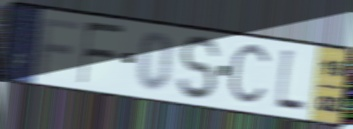0: (136, 29, 176, 95)
C: (226, 40, 274, 109)
F: (78, 20, 127, 86), (36, 16, 83, 79)
L: (274, 45, 308, 116)
S: (177, 34, 224, 103)
